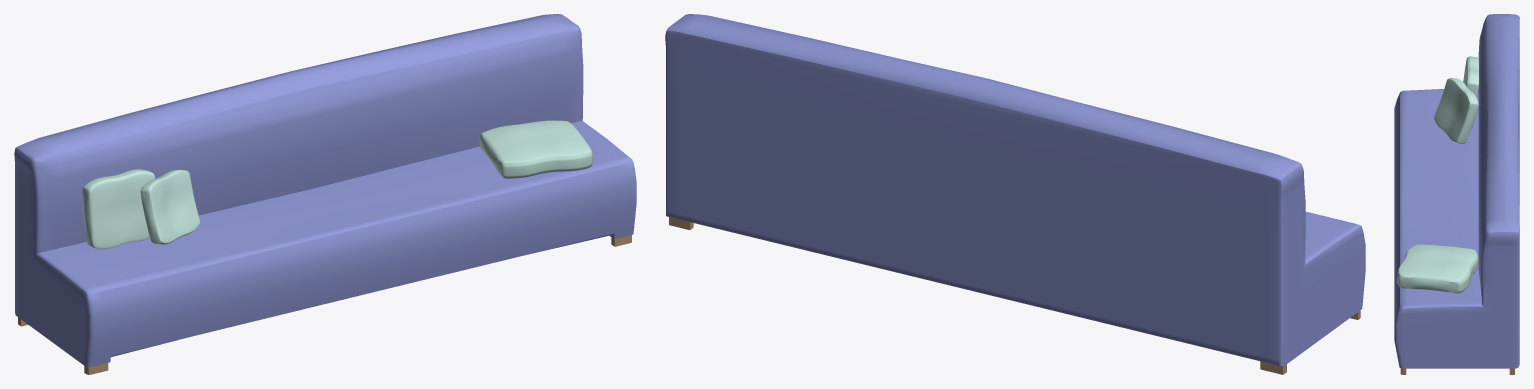
File: couch_v1.fbx
3 renders of one model, left to right at view 1: azimuth 30°, elevation 25°; view 2: azimuth 150°, elevation 25°; view 3: azimuth 270°, elevation 25°, orthographic. The views are drawn at different scales.
Visible parts, largest first — view 1: couch; view 2: couch; view 3: couch.
Boxes of the visible parts, x1,y1,x2,y2 form: couch: (14,14,636,374); couch: (665,14,1365,374); couch: (1394,14,1519,374).
Size of the model in its own units: 587 by 194 by 142.
